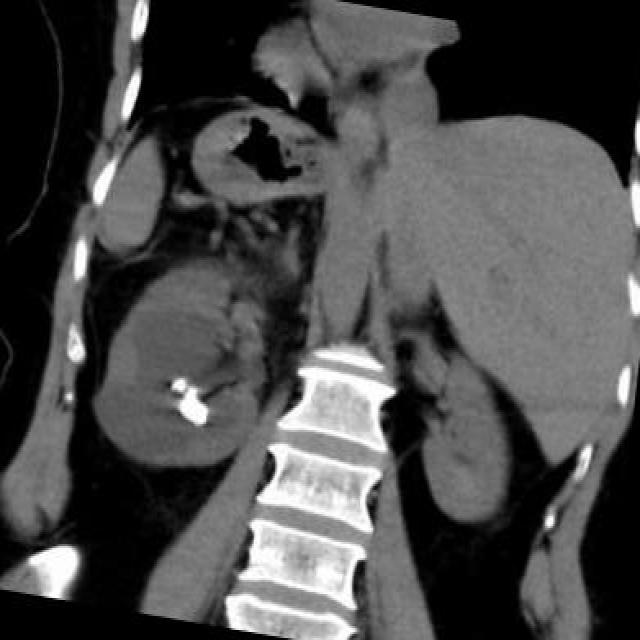Tas_Var: (175, 382, 215, 428), (166, 373, 188, 393)
